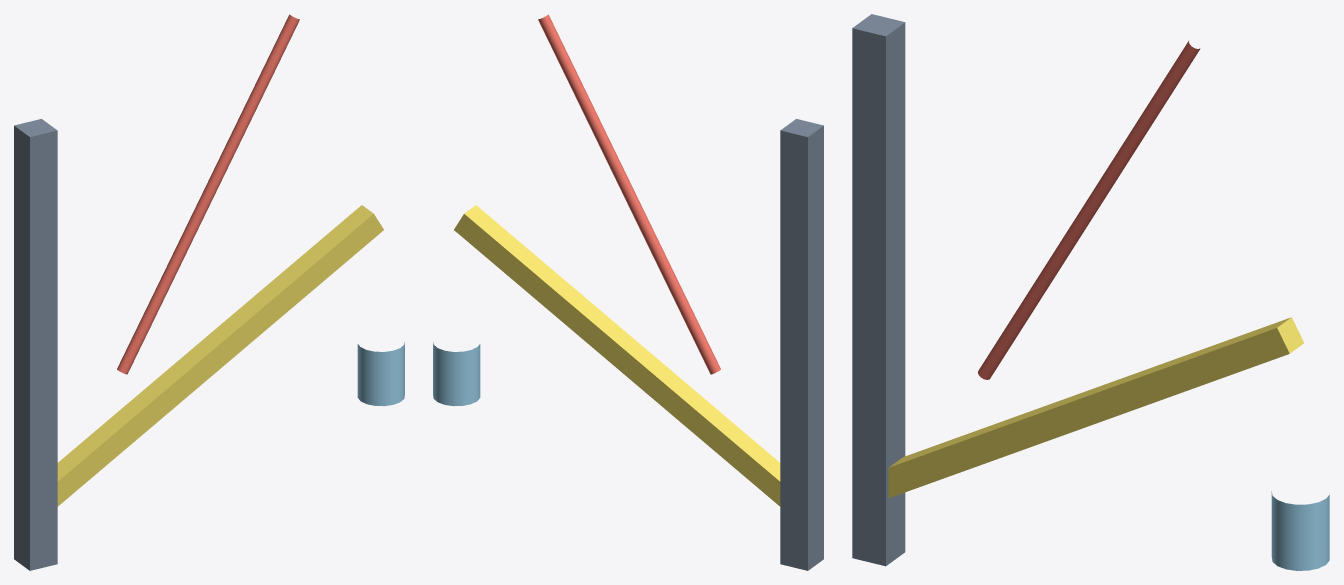
File: jib_crane_tie_jib_forces.glb
3 renders of one model, left to right at view 1: azimuth 30°, elevation 25°; view 2: azimuth 150°, elevation 25°; view 3: azimuth 330°, elevation 25°, orthographic. The views are drawn at different scales.
Parts seen in each view (by area): view 1: VerticalPostSupportColumn, InclinedCompressionJibBoom, TensionTieRodChainWithSpringBalance, SuspendedHookWeightW; view 2: VerticalPostSupportColumn, InclinedCompressionJibBoom, TensionTieRodChainWithSpringBalance, SuspendedHookWeightW; view 3: VerticalPostSupportColumn, InclinedCompressionJibBoom, TensionTieRodChainWithSpringBalance, SuspendedHookWeightW.
Part boxes in pixels (bbox=[...]): VerticalPostSupportColumn: bbox=[14, 119, 57, 570]; InclinedCompressionJibBoom: bbox=[57, 205, 383, 506]; TensionTieRodChainWithSpringBalance: bbox=[117, 14, 299, 374]; SuspendedHookWeightW: bbox=[357, 342, 404, 406]; VerticalPostSupportColumn: bbox=[780, 119, 823, 570]; InclinedCompressionJibBoom: bbox=[454, 205, 780, 506]; TensionTieRodChainWithSpringBalance: bbox=[538, 14, 720, 374]; SuspendedHookWeightW: bbox=[433, 342, 480, 406]; VerticalPostSupportColumn: bbox=[852, 14, 905, 566]; InclinedCompressionJibBoom: bbox=[888, 317, 1303, 498]; TensionTieRodChainWithSpringBalance: bbox=[978, 41, 1200, 379]; SuspendedHookWeightW: bbox=[1271, 491, 1329, 570].
Size of the model in its own units: 1.1 by 1.34 by 0.12.
